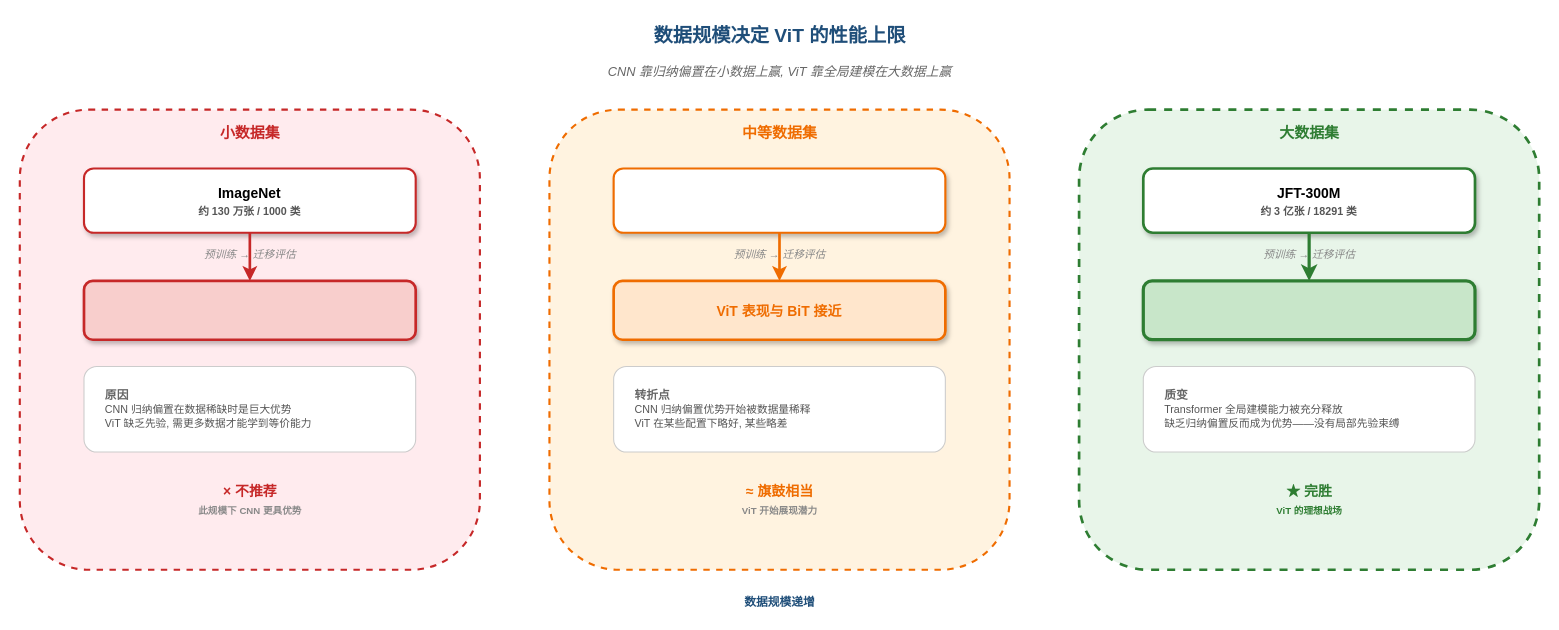
This 1559x630 diagram has some shape labels left out. The centre of each missing label's shape, as x and y in pixels:
"ImageNet-21k 约 1400 万张 / 21843 类" goes at [780,202].
"ViT 表现弱于 BiT (ResNet)" goes at [250,311].
"ViT 表现显著超越 BiT" goes at [1309,311].
